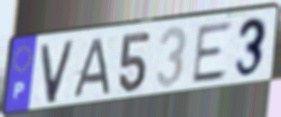3: (232, 14, 271, 82), (155, 24, 192, 92)
5: (117, 31, 153, 95)
A: (68, 36, 113, 101)
E: (190, 19, 236, 87)
V: (39, 38, 76, 107)
